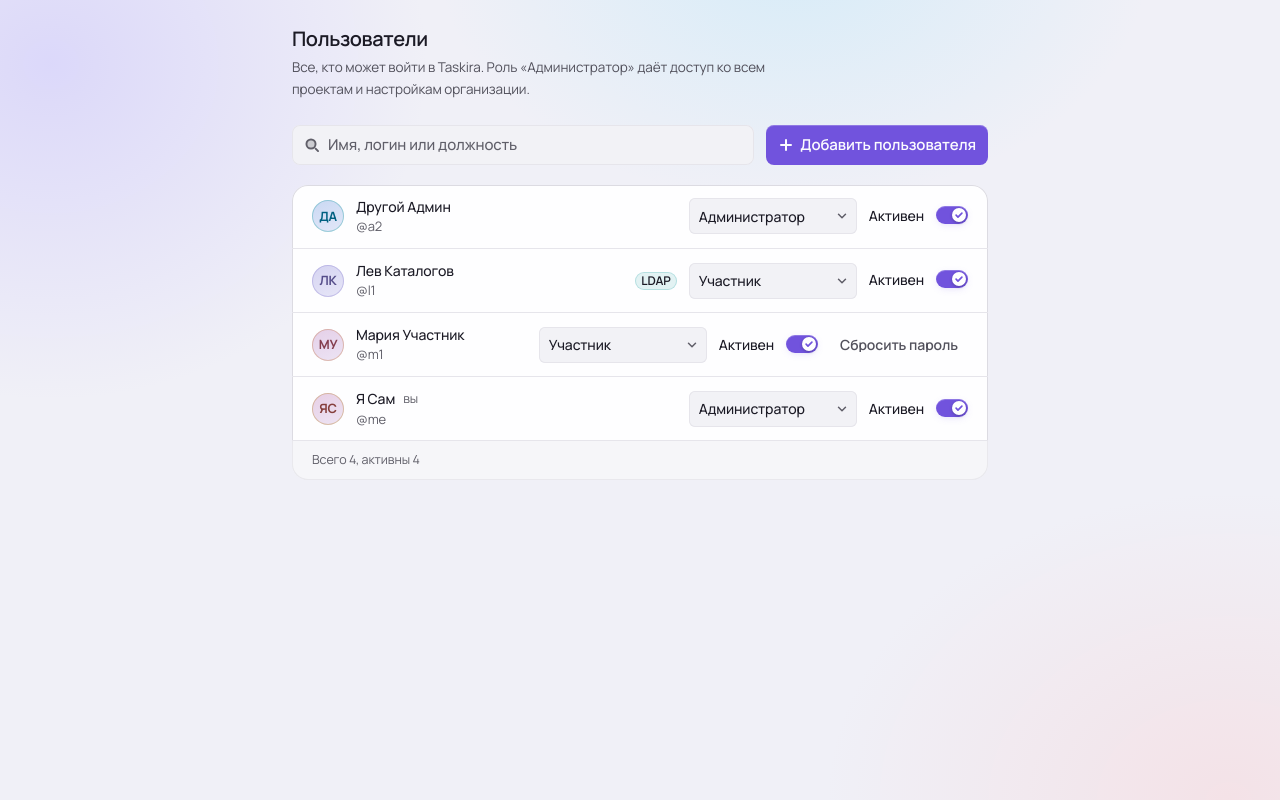
Test case: reset is offered only for local non-admin users other than me, and shows the password once
Expected: the text "Мария Участник" is shown, [356,325,464,344]
Click the button with aria-label "Сбросить пароль:" at (899, 345), box [830,327,968,363]
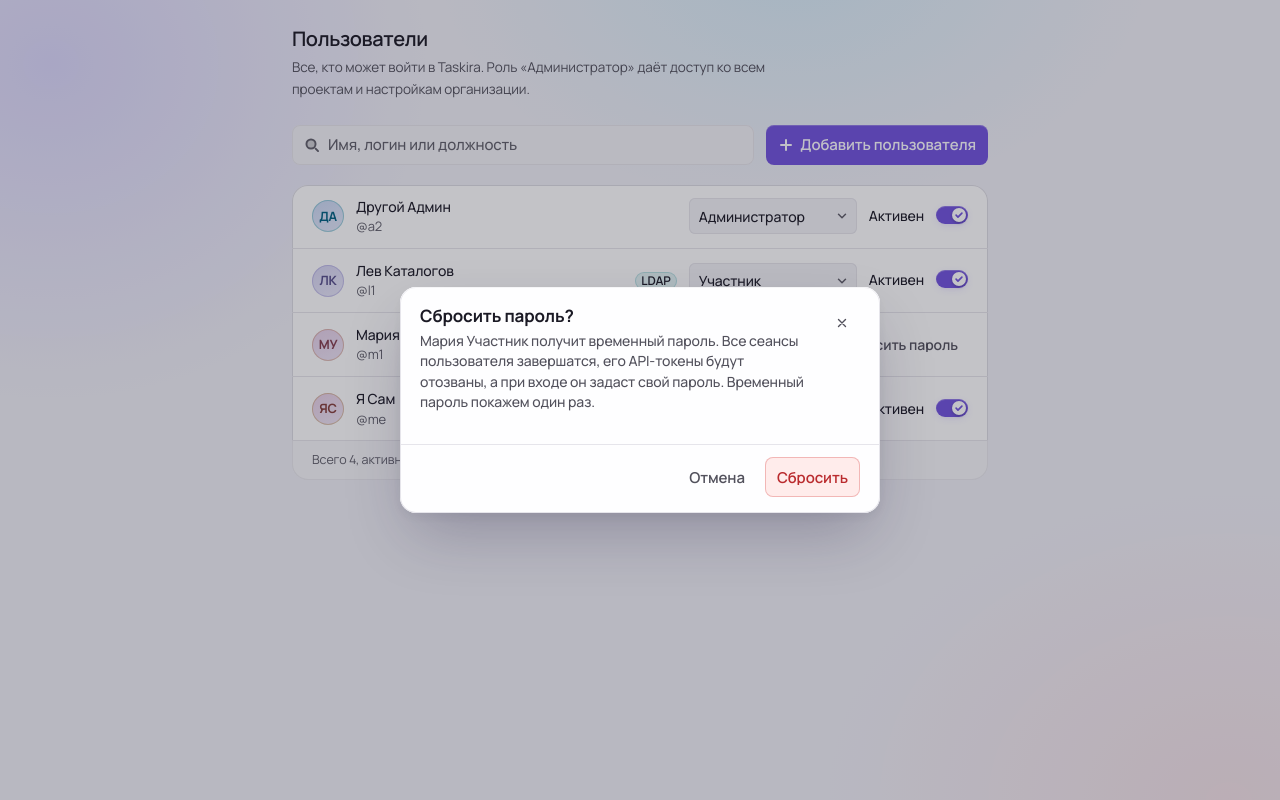
Expected: the text "API-токены будут отозваны" is shown, [420,331,804,411]
Click the button "Сбросить" at (812, 477), box [765,457,860,497]
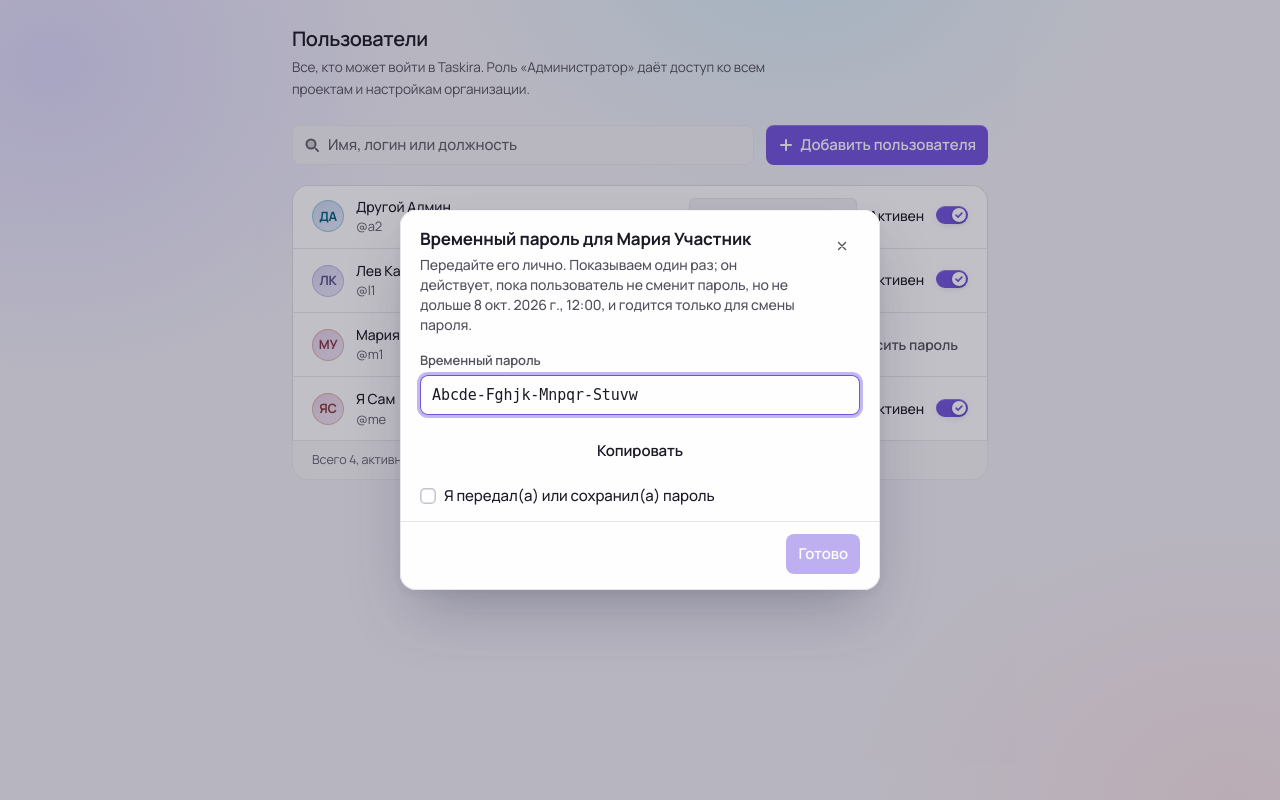
Expected: the field labelled "Временный пароль" holds "Abcde-Fghjk-Mnpqr-Stuvw", [432,386,848,404]
